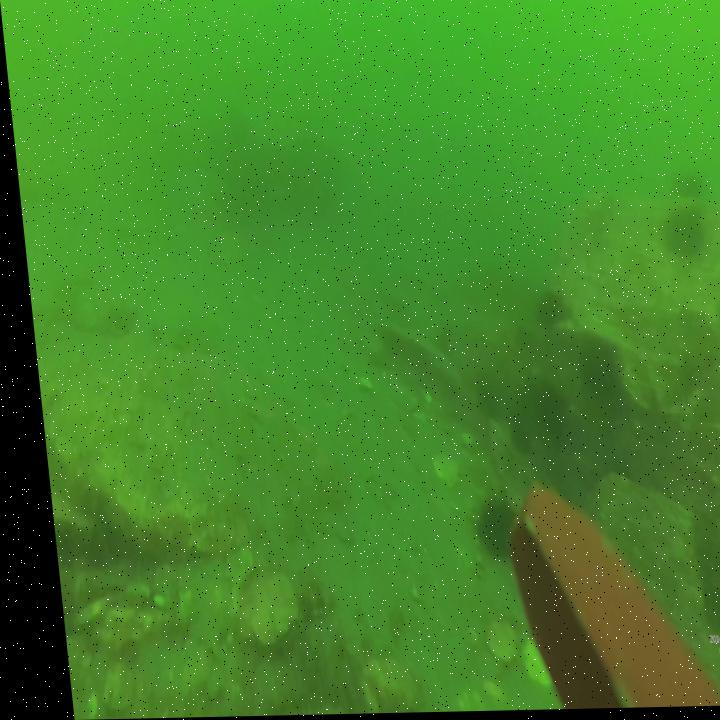echinus: (456, 497, 509, 558), (660, 211, 702, 259), (569, 348, 610, 390), (527, 294, 561, 327)
